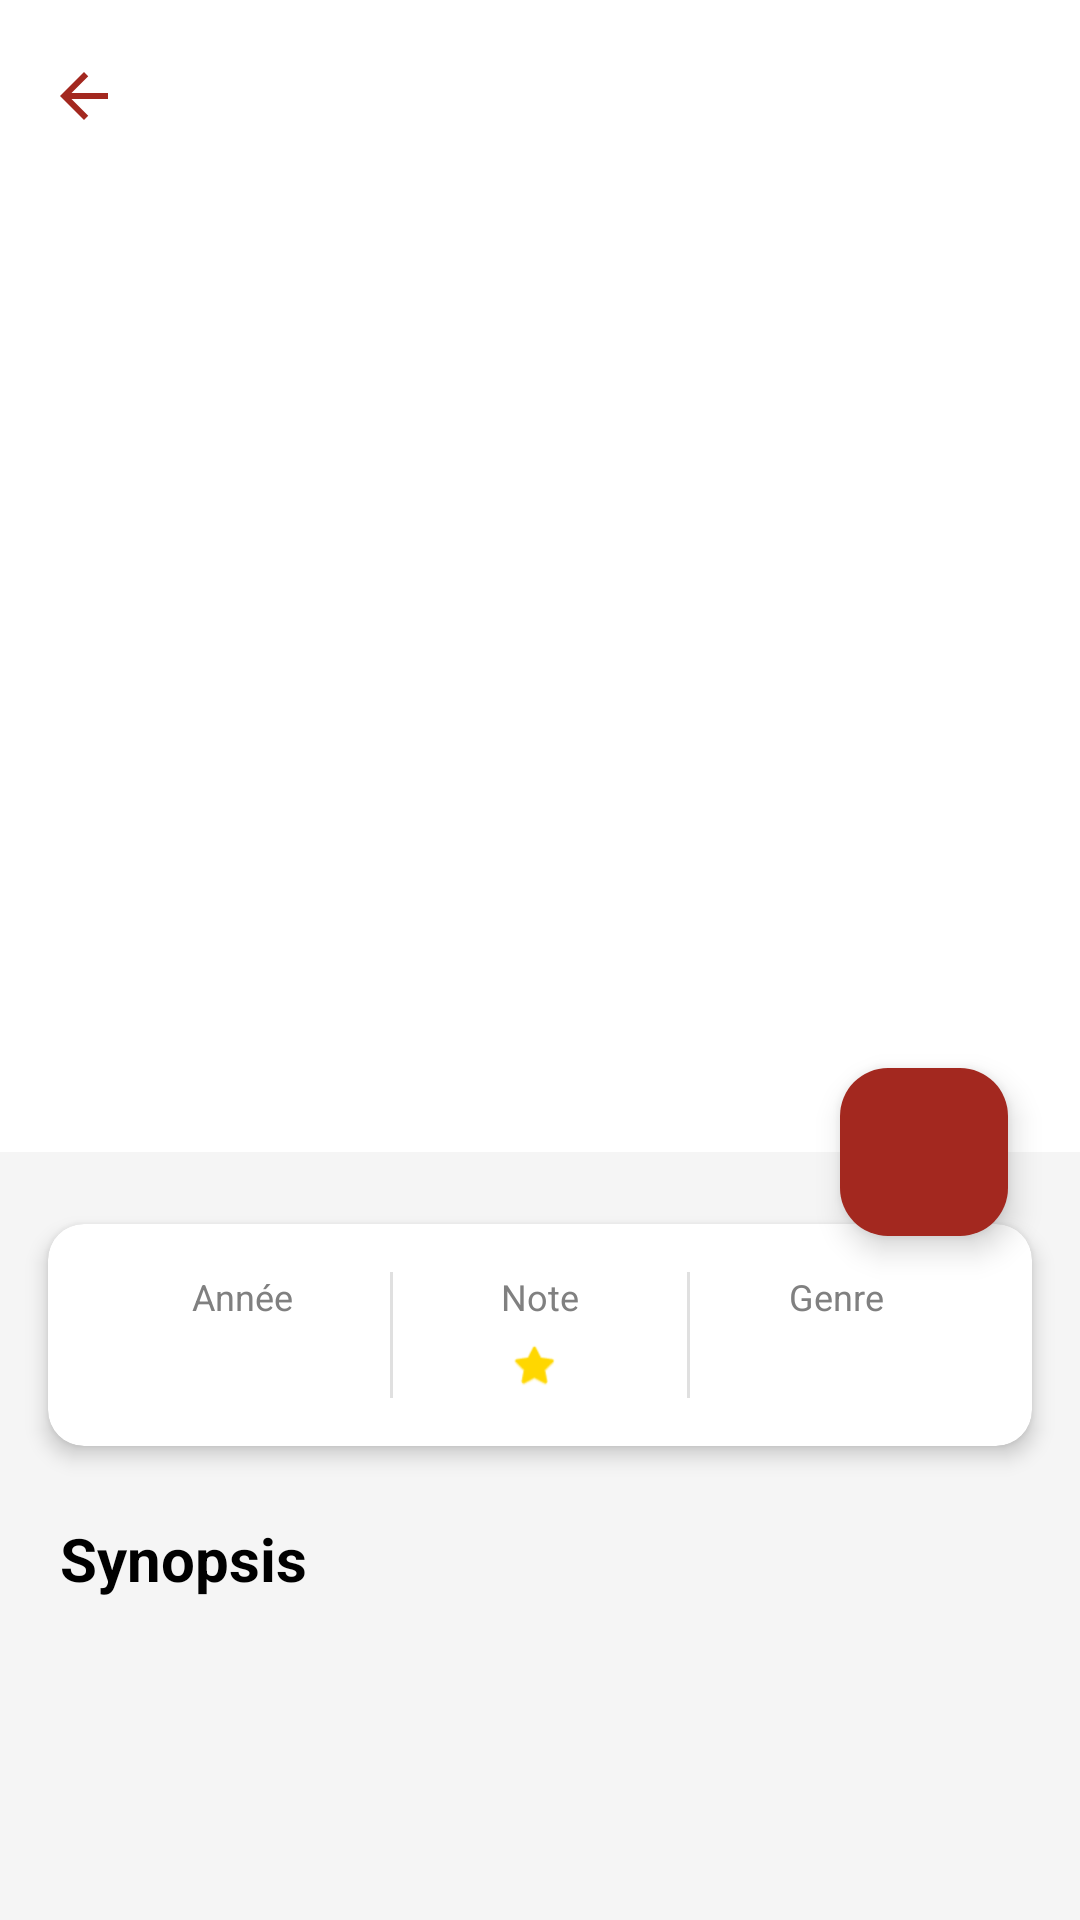

Locate icon controls on the screen. Image size 1080w x 1920h, boxes as region(x1, y1, x2, y2).
star on: region(514, 1346, 554, 1385)
